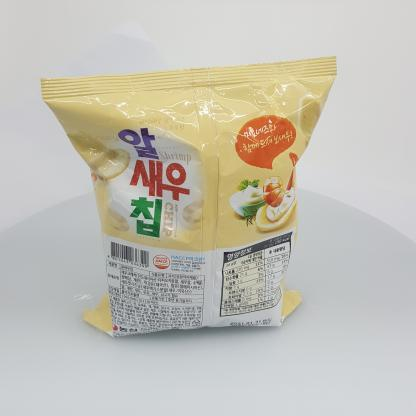Plastic Packaging: (32, 52, 344, 350)
